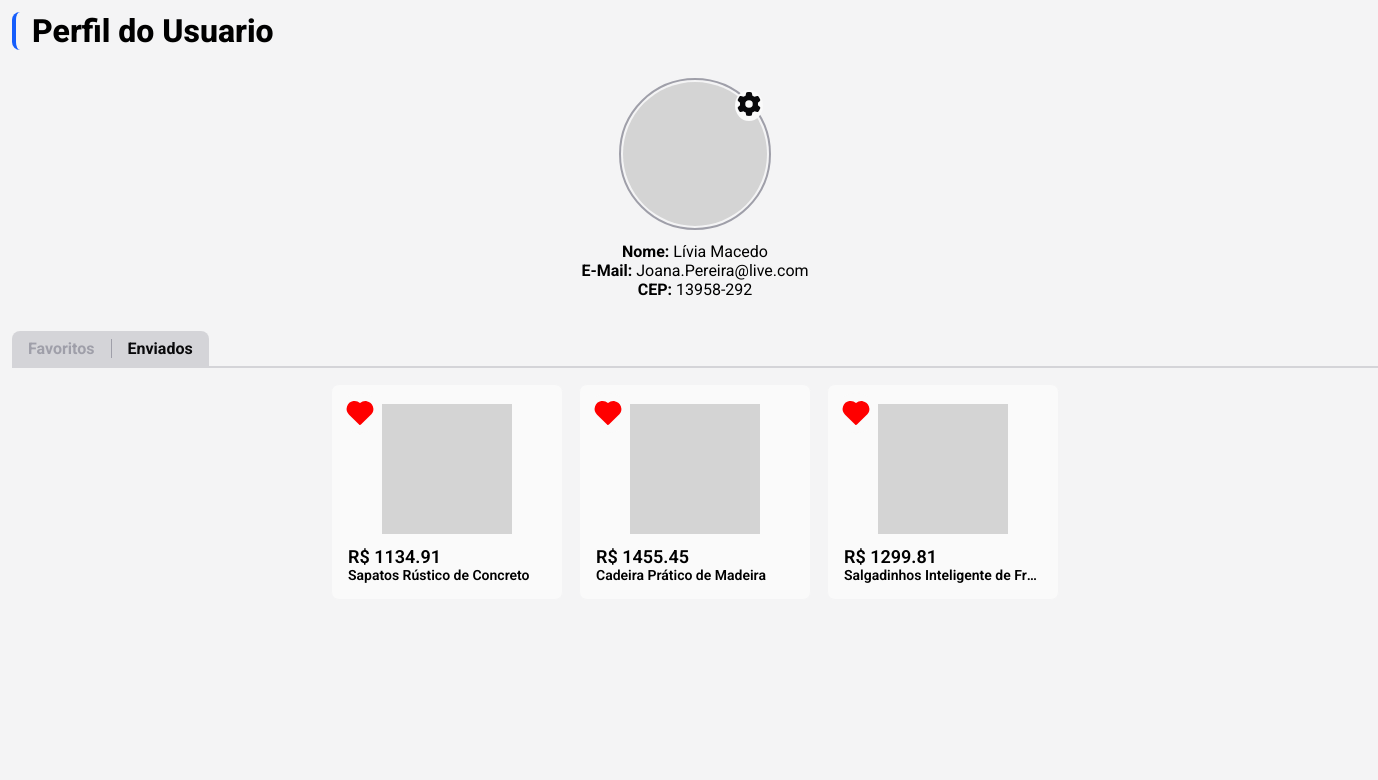
user update page › should showing card from delivery when clicked in Enviados button
The width and height of the screenshot is (1378, 780).
Expected: the element named "favorite cards" is shown, [331, 384, 1059, 600]
Click the button "Enviados": (160, 348) [112, 339, 209, 358]
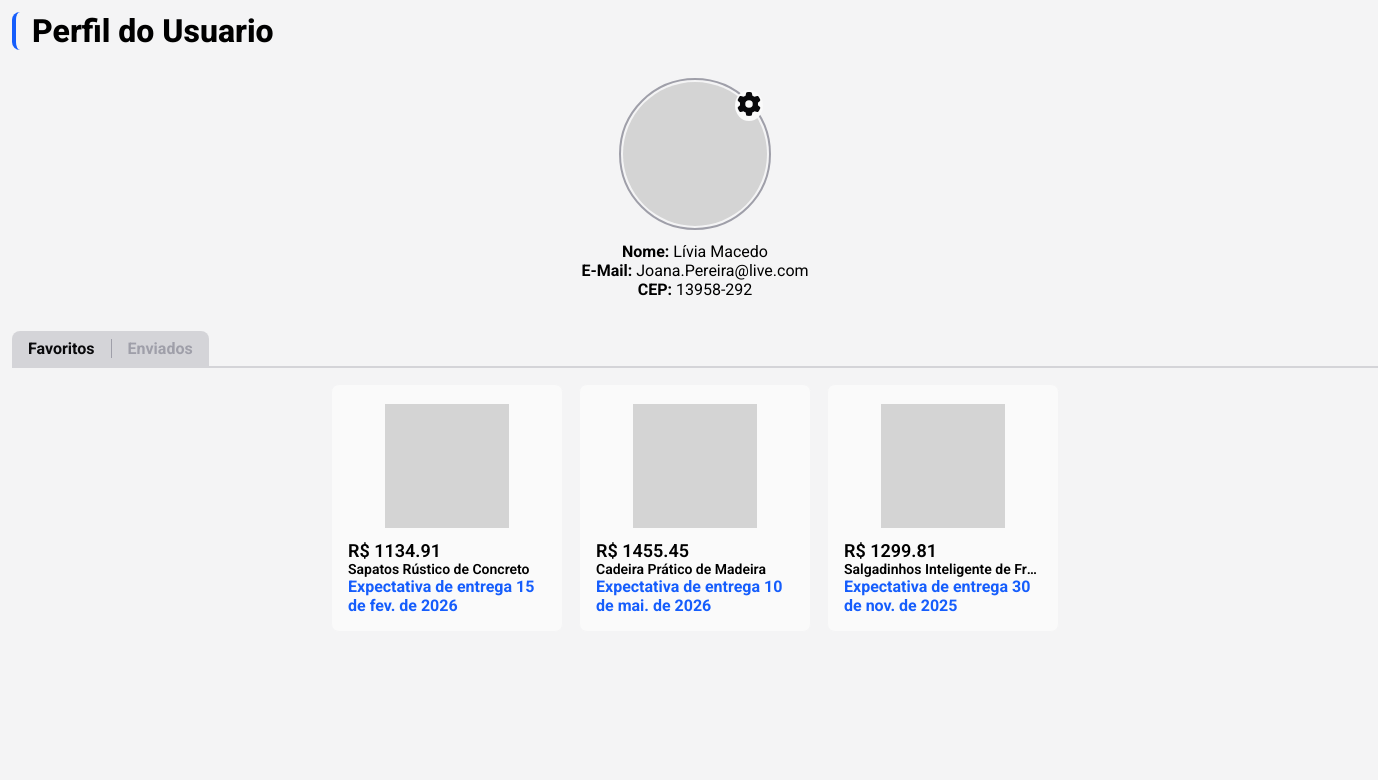
Expected: the element named "delivery cards" is shown, [331, 384, 1059, 632]
